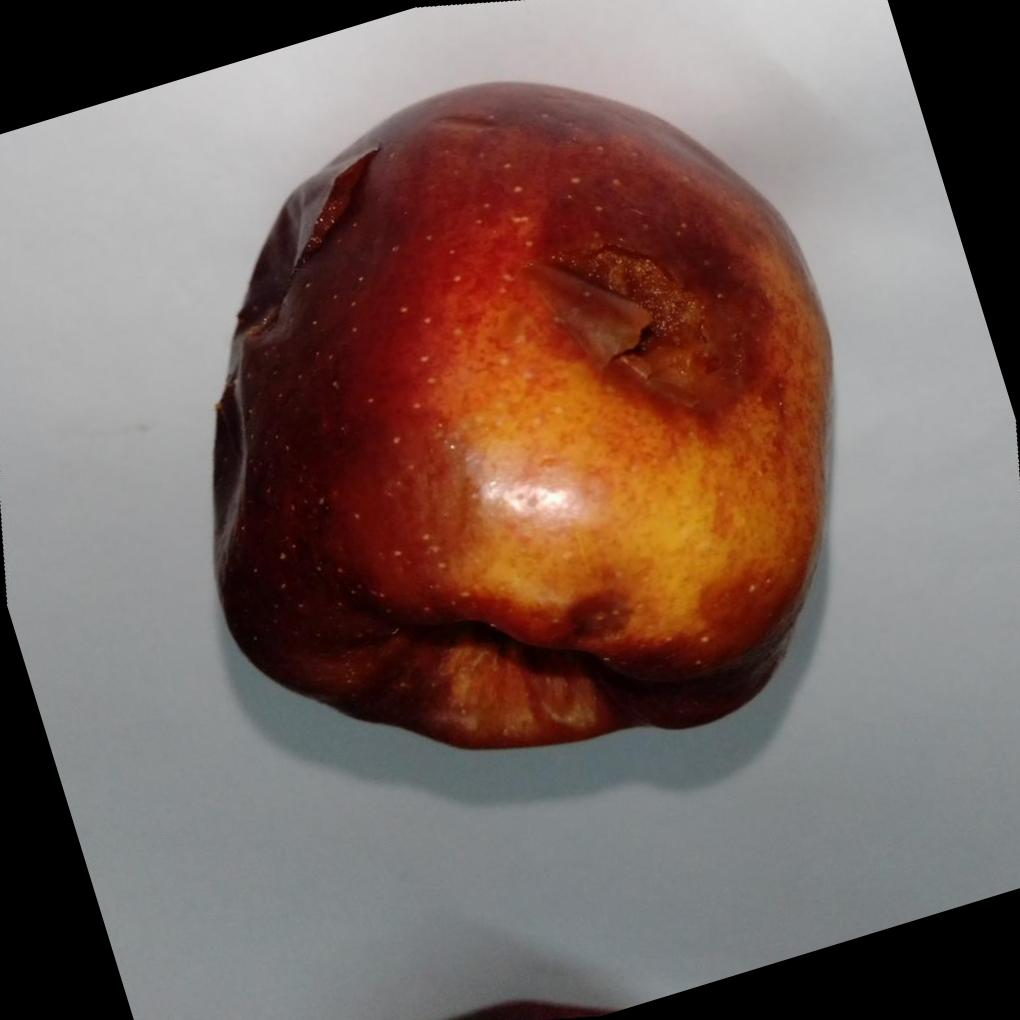FreshOrange: (210, 76, 833, 750)
